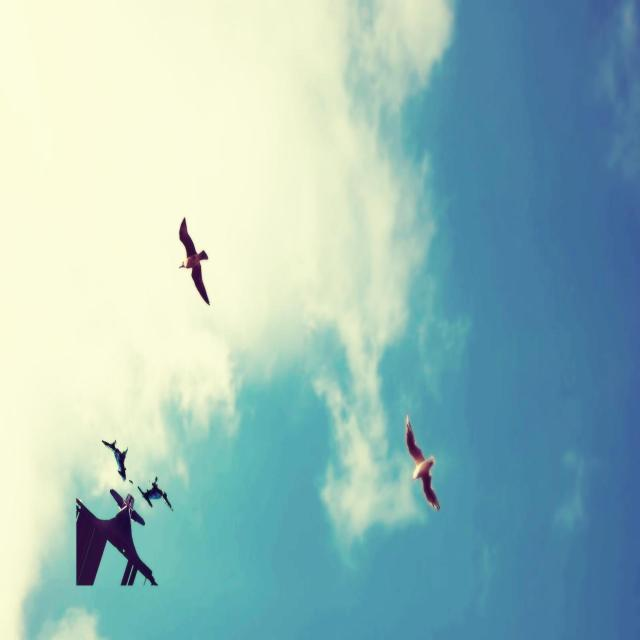airplane: (75, 488, 158, 587), (137, 475, 173, 510), (101, 438, 128, 481)
